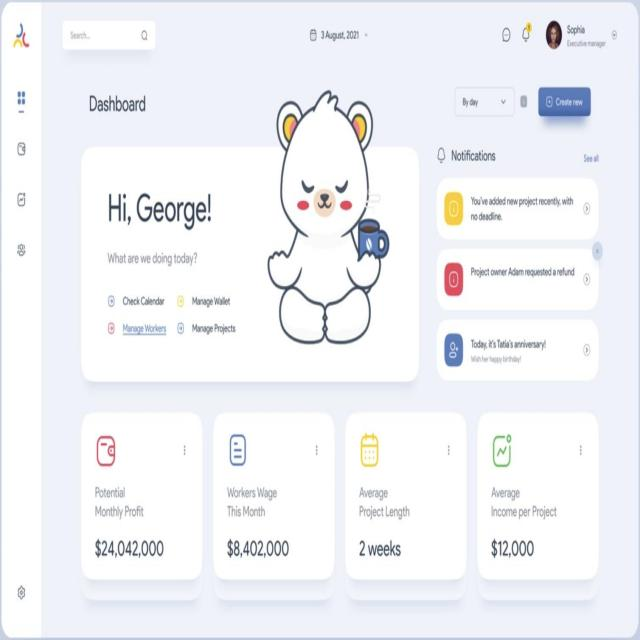button: (538, 86, 591, 117)
input: (63, 19, 155, 52)
select: (456, 88, 516, 118)
